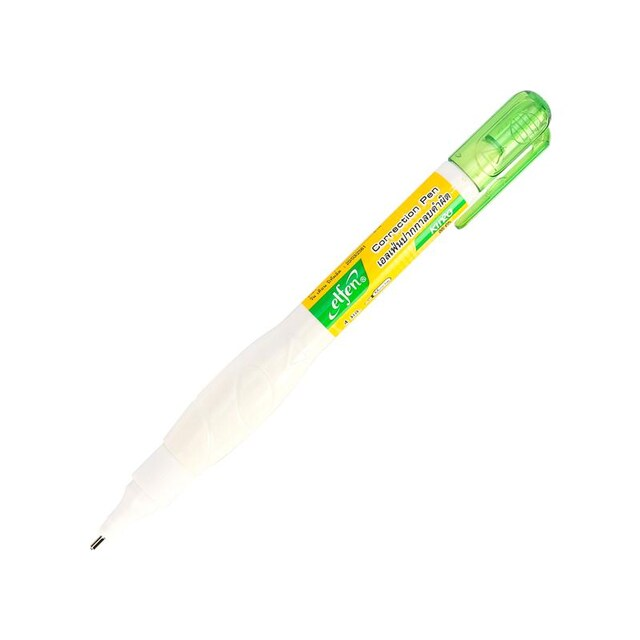Correction_fluid: (76, 83, 559, 560)
